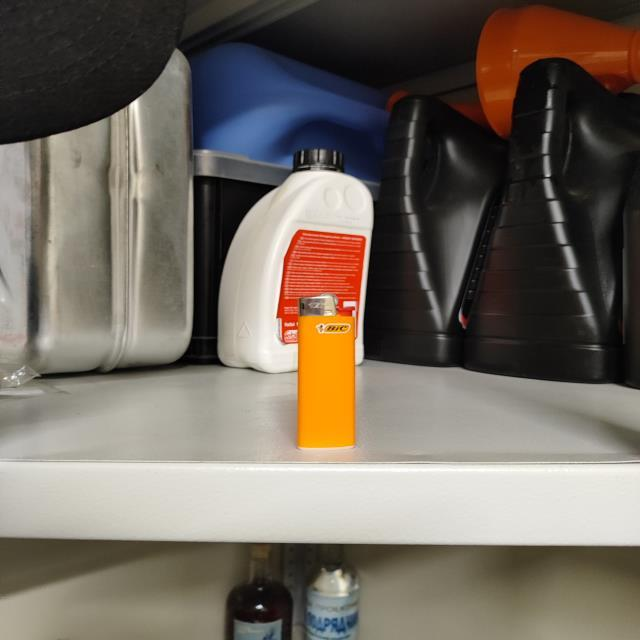lighter: (298, 293, 357, 447)
